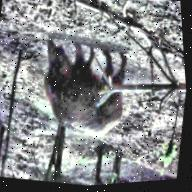boar: (18, 25, 152, 159)
